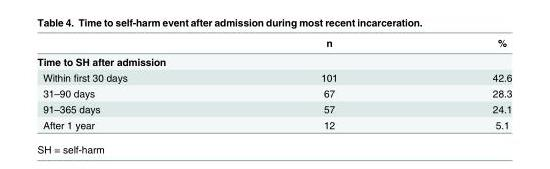table: (36, 36, 511, 130)
table column: (36, 36, 242, 130), (242, 36, 414, 130), (414, 36, 511, 130)
table column header: (36, 36, 511, 51)
table projected row header: (36, 51, 511, 69)
table row: (36, 51, 511, 69), (36, 69, 511, 85), (36, 100, 511, 116), (36, 36, 511, 51), (36, 85, 511, 100), (36, 116, 511, 130)
